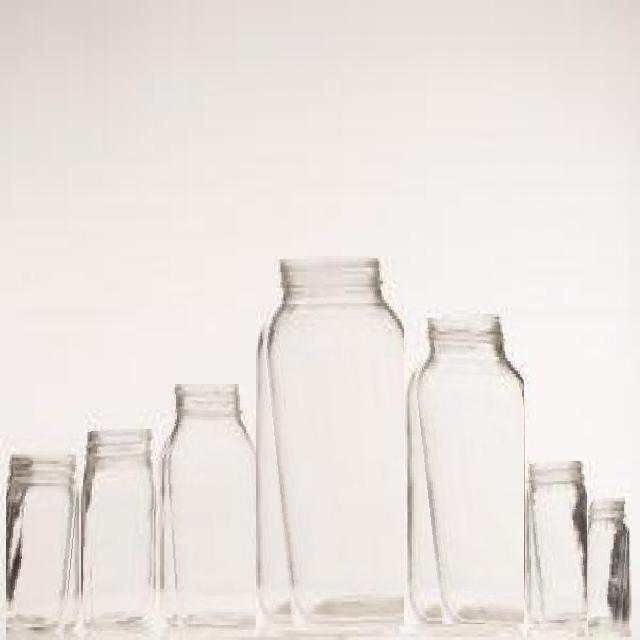Glass: (254, 257, 404, 627), (408, 314, 524, 624), (162, 386, 256, 630), (83, 429, 157, 631), (7, 449, 82, 640), (525, 460, 587, 628), (588, 497, 630, 633)
